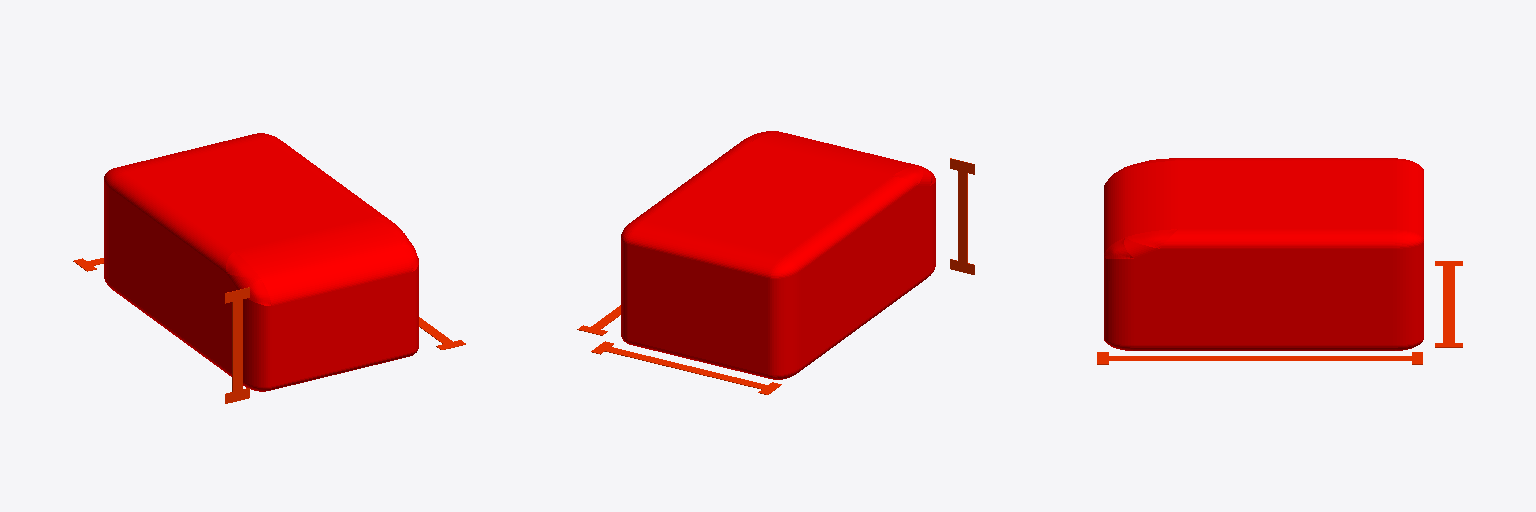
Rendered from duffel_red.obj.
The picture shows the model from 3 angles: view 1: azimuth 30°, elevation 25°; view 2: azimuth 150°, elevation 25°; view 3: azimuth 270°, elevation 25°; orthographic projection.
Parts seen in each view (by area): view 1: Cube, ruler_x_Plane.005; view 2: Cube, ruler_x_Plane.005, ruler_y_Plane.007; view 3: Cube, ruler_z_Plane.002, ruler_y_Plane.007.
Boxes of the visible parts, x1,y1,x2,y2 form: Cube: [104, 133, 418, 391]; ruler_x_Plane.005: [225, 287, 249, 403]; Cube: [621, 131, 935, 379]; ruler_x_Plane.005: [950, 158, 974, 274]; ruler_y_Plane.007: [591, 341, 781, 394]; Cube: [1104, 158, 1423, 350]; ruler_z_Plane.002: [1097, 352, 1422, 364]; ruler_y_Plane.007: [1435, 261, 1462, 347].
Size of the model in its own units: 0.48 by 0.23 by 0.64.